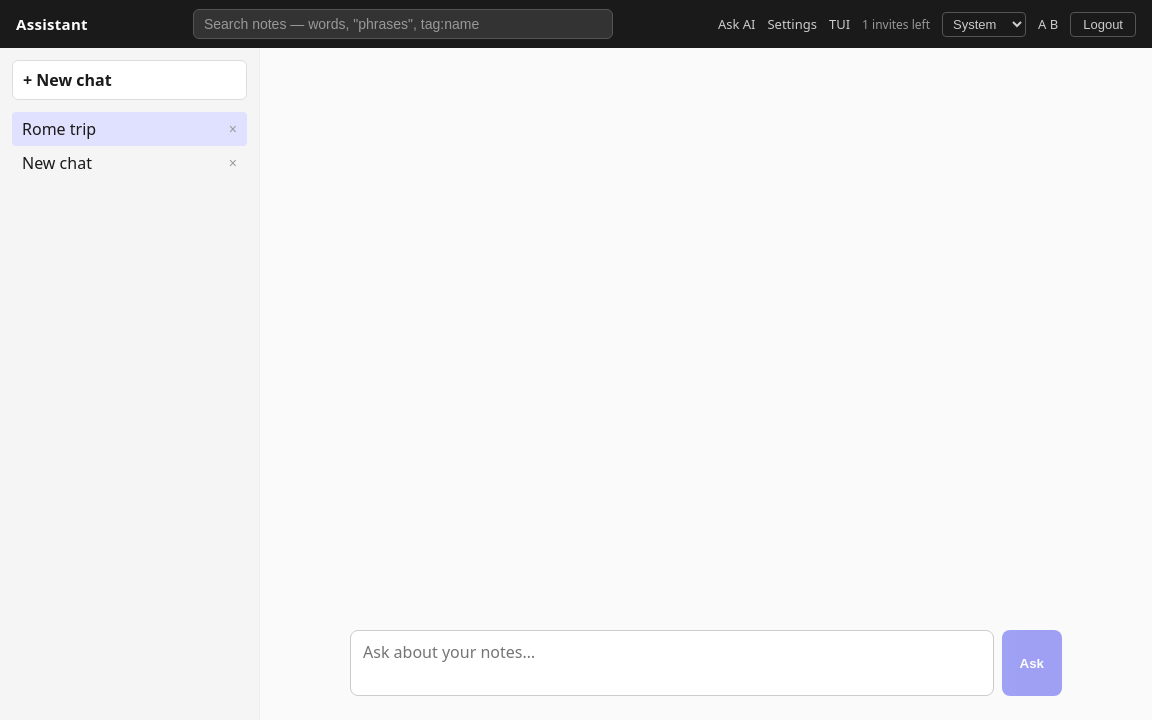
Test: AskPage asking › asks in the open thread with Enter
Type "Again?" into the text box named "Question".
click(672, 663); type("Again?")  # box [350, 630, 994, 696]
Then press Enter
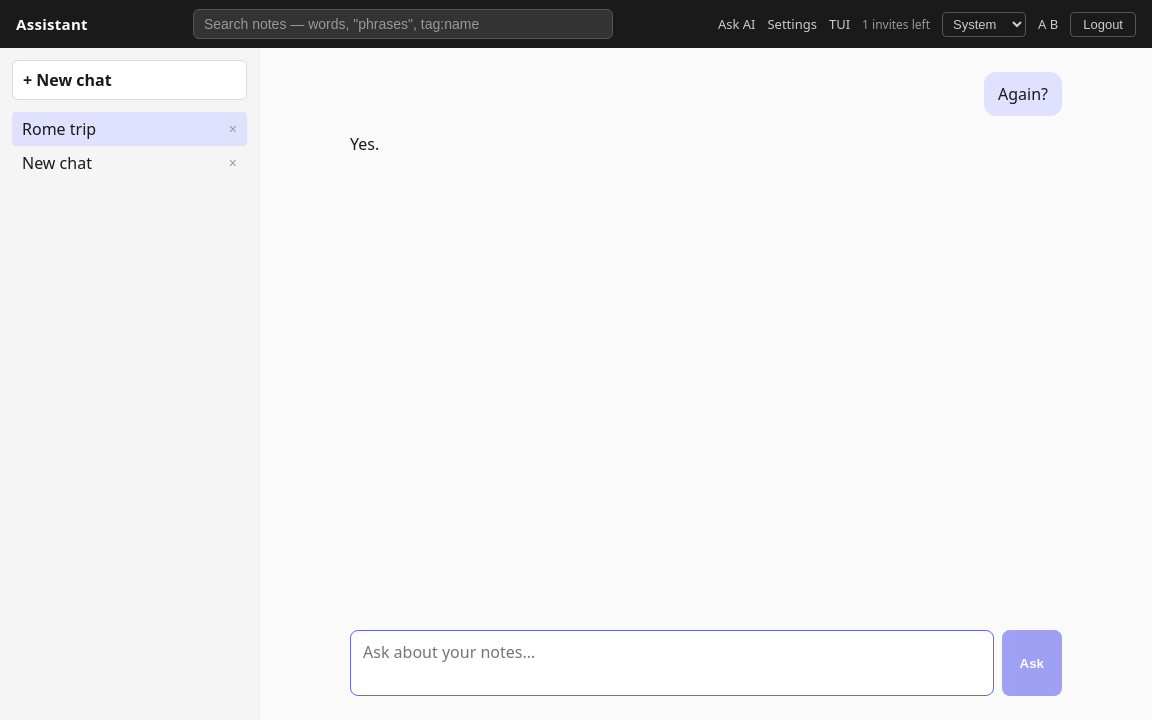
Result: the text "Yes." is shown at [350, 133, 379, 155]
